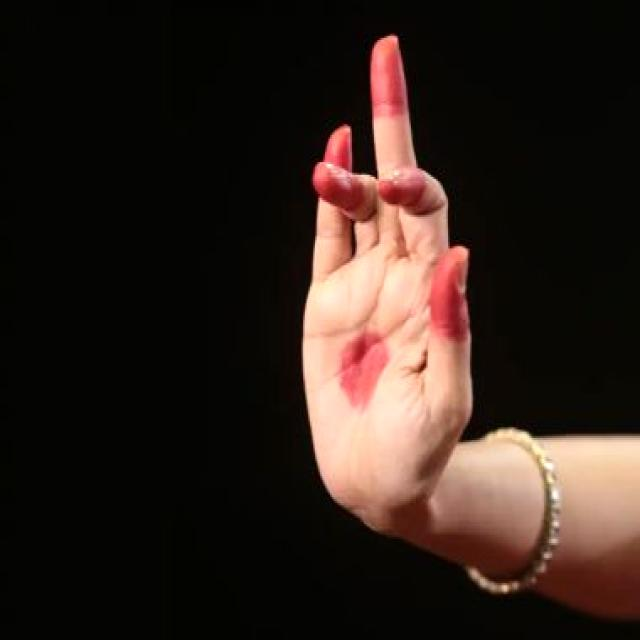Shukatunda: (265, 2, 507, 572)
